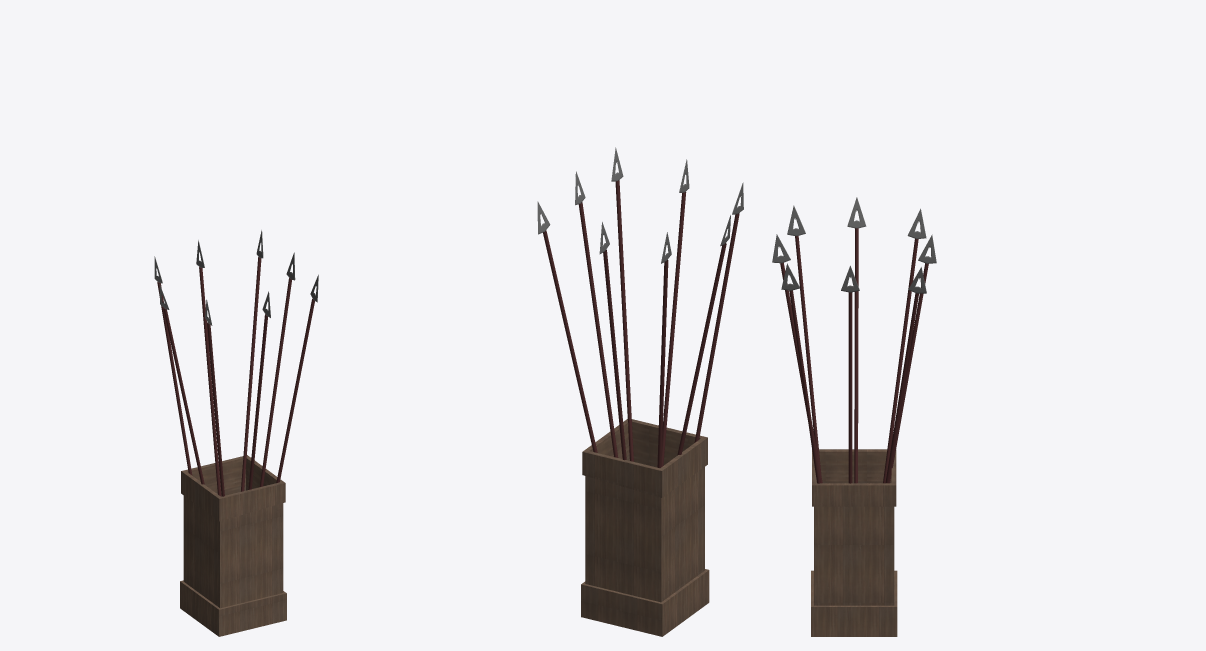
The model's file is caja_con_virotes.fbx.
3 views of the same model, side by side, from view 1: azimuth 30°, elevation 25°; view 2: azimuth 150°, elevation 25°; view 3: azimuth 270°, elevation 25° (orthographic). The views are drawn at different scales.
Parts seen in each view (by area): view 1: caja, virote1, virote7, virote4, virote3, virote6, virote8, virote2, virote5; view 2: caja, virote3, virote8, virote4, virote1, virote5, virote7, virote6, virote2; view 3: caja, virote6, virote2, virote5, virote4, virote3, virote1, virote7, virote8.
Part boxes in pixels (x1,y1,x2,y2): caja: [180, 455, 286, 636]; virote1: [241, 230, 263, 491]; virote7: [196, 240, 221, 496]; virote4: [259, 252, 295, 486]; virote3: [276, 274, 318, 482]; virote6: [159, 284, 204, 484]; virote8: [248, 291, 270, 489]; virote2: [154, 256, 192, 475]; virote5: [205, 299, 224, 496]; caja: [581, 419, 709, 636]; virote3: [611, 147, 633, 461]; virote8: [661, 159, 689, 466]; virote4: [575, 171, 618, 457]; virote1: [537, 201, 597, 452]; virote5: [694, 182, 743, 442]; virote7: [599, 222, 626, 460]; virote6: [677, 215, 730, 455]; virote2: [657, 232, 671, 467]; caja: [811, 449, 897, 636]; virote6: [847, 197, 866, 483]; virote2: [883, 208, 926, 483]; virote5: [787, 205, 821, 473]; virote4: [841, 265, 859, 483]; virote3: [781, 263, 820, 483]; virote1: [885, 267, 926, 483]; virote7: [889, 234, 936, 483]; virote8: [772, 234, 822, 483].
Bounding box in the file's own units: 3.33 × 7.86 × 5.11.
Materials: 5 (1 with a texture image).
